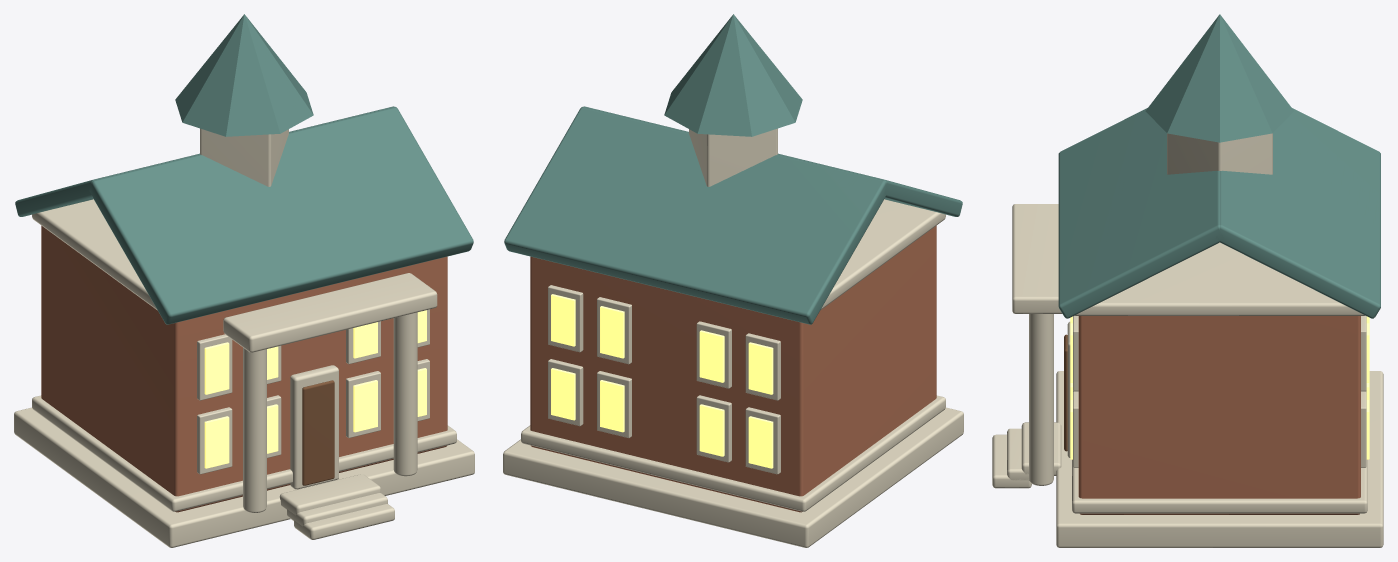
File: SM_Library_Campus.fbx
3 renders of one model, left to right at view 1: azimuth 30°, elevation 25°; view 2: azimuth 150°, elevation 25°; view 3: azimuth 270°, elevation 25°, orthographic. The views are drawn at different scales.
Visible parts, largest first — view 1: SM_Library_Campus; view 2: SM_Library_Campus; view 3: SM_Library_Campus.
Part boxes in pixels (box(x1,y1,x2,y2)): SM_Library_Campus: box(14, 14, 474, 547); SM_Library_Campus: box(503, 14, 963, 547); SM_Library_Campus: box(992, 14, 1383, 547).
Size of the model in its own units: 325 by 347 by 447.
